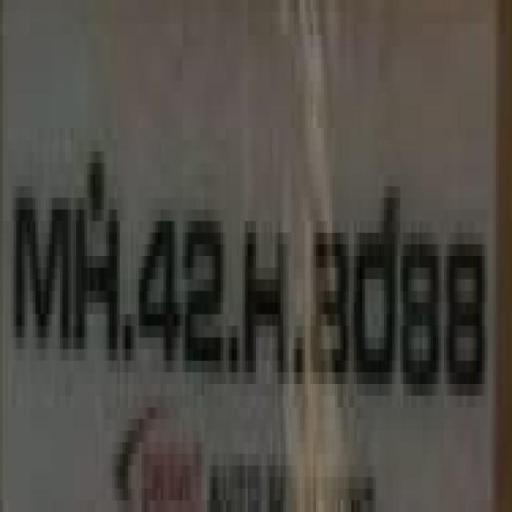number plate: (24, 23, 510, 501)
